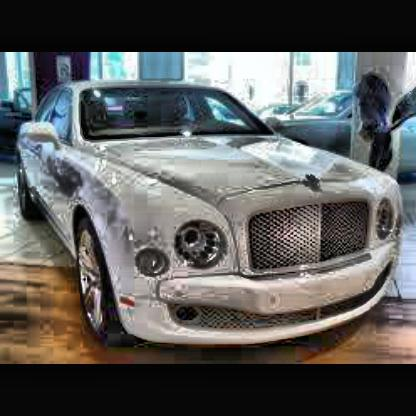Bentley Mulsanne Sedan 2011: (18, 83, 407, 356)
